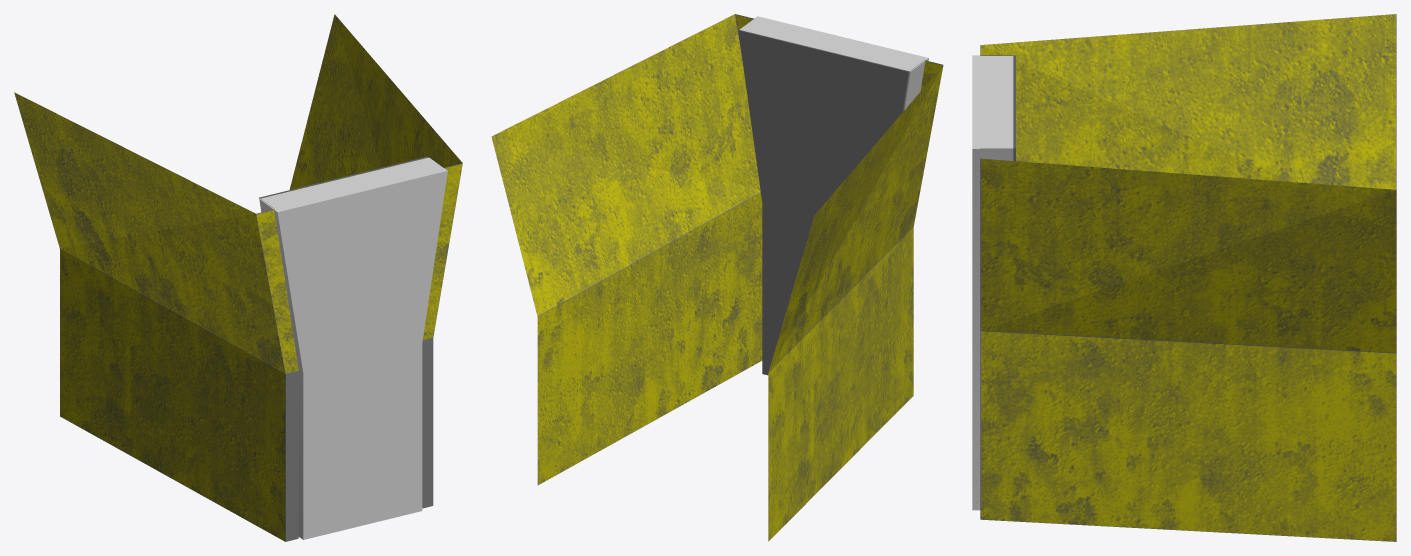
Rendered from CubeBaseFrontColumnMedium.fbx.
3 views of the same model, side by side, from view 1: azimuth 30°, elevation 25°; view 2: azimuth 150°, elevation 25°; view 3: azimuth 270°, elevation 25° (orthographic). The views are drawn at different scales.
Parts seen in each view (by area): view 1: pCube2, pCube3; view 2: pCube2, pCube3; view 3: pCube2, pCube3.
Boxes of the visible parts, x1,y1,x2,y2 form: pCube2: [14, 14, 462, 541]; pCube3: [259, 157, 447, 539]; pCube2: [491, 14, 943, 541]; pCube3: [739, 16, 928, 110]; pCube2: [980, 14, 1396, 541]; pCube3: [972, 55, 1013, 510].
Size of the model in its own units: 1 by 1 by 1.02.
Materials: 2 (1 with a texture image).
